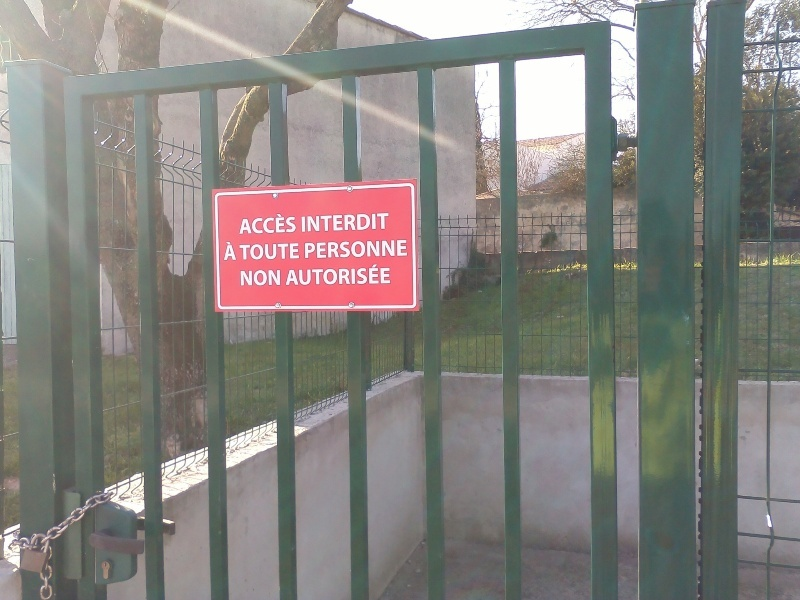text: (257, 211, 272, 235), (273, 211, 288, 235), (289, 263, 304, 286), (305, 263, 320, 286), (321, 263, 336, 286), (337, 263, 352, 286), (353, 263, 368, 286), (369, 263, 384, 286), (225, 241, 240, 262), (305, 239, 320, 260), (321, 239, 336, 260), (337, 239, 352, 260), (353, 239, 368, 260), (369, 239, 384, 260), (385, 239, 400, 260), (243, 211, 256, 235), (305, 213, 320, 233), (321, 213, 336, 233), (337, 213, 352, 233), (353, 213, 368, 233), (369, 213, 384, 233), (241, 243, 256, 262), (257, 243, 272, 262), (273, 243, 288, 262), (241, 269, 256, 287), (257, 269, 272, 287), (289, 243, 301, 262), (289, 211, 298, 235), (401, 239, 410, 260), (273, 269, 281, 287), (385, 263, 391, 286), (385, 213, 390, 233), (301, 213, 304, 233)
